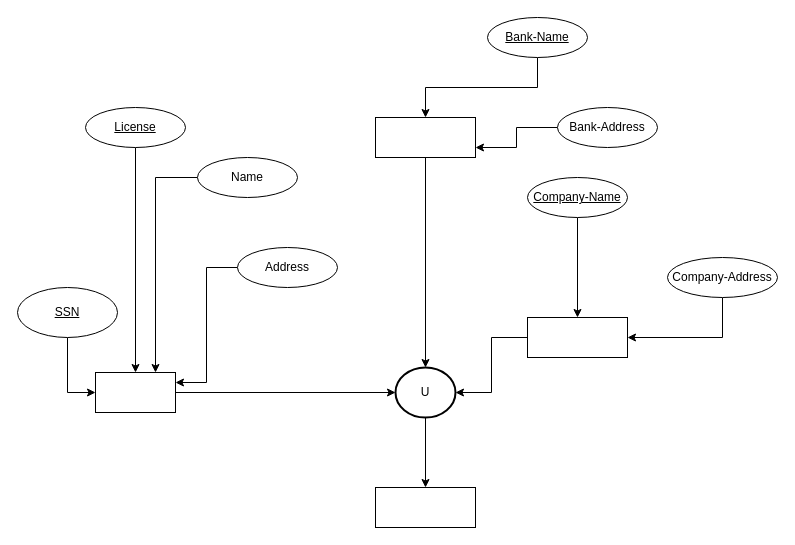
Some shapes in this 795 by 545 pixel diagram are drawn without their labels. The shapes that lost their labels are listed below. From the top down, each one's box as (x1, y1, x2, y2) in pixels, then its label:
(374, 116, 476, 158): Bank
(526, 316, 628, 358): Company
(94, 372, 176, 412): Person
(374, 486, 476, 528): Owner
